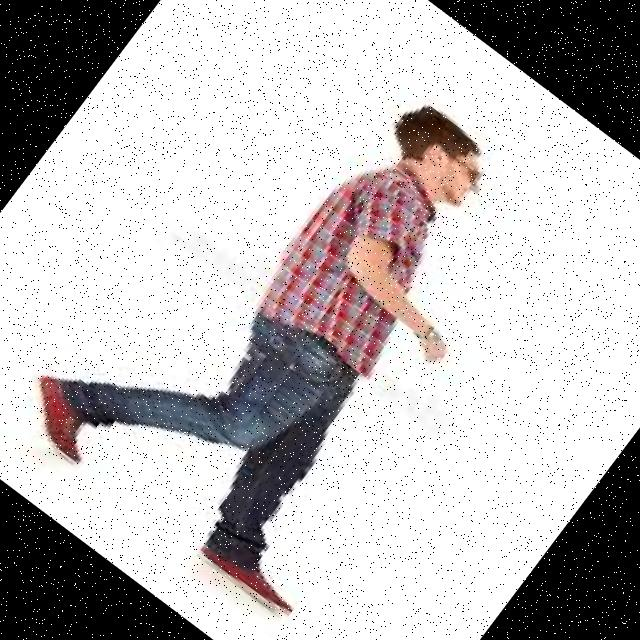Person: (6, 12, 591, 628)
